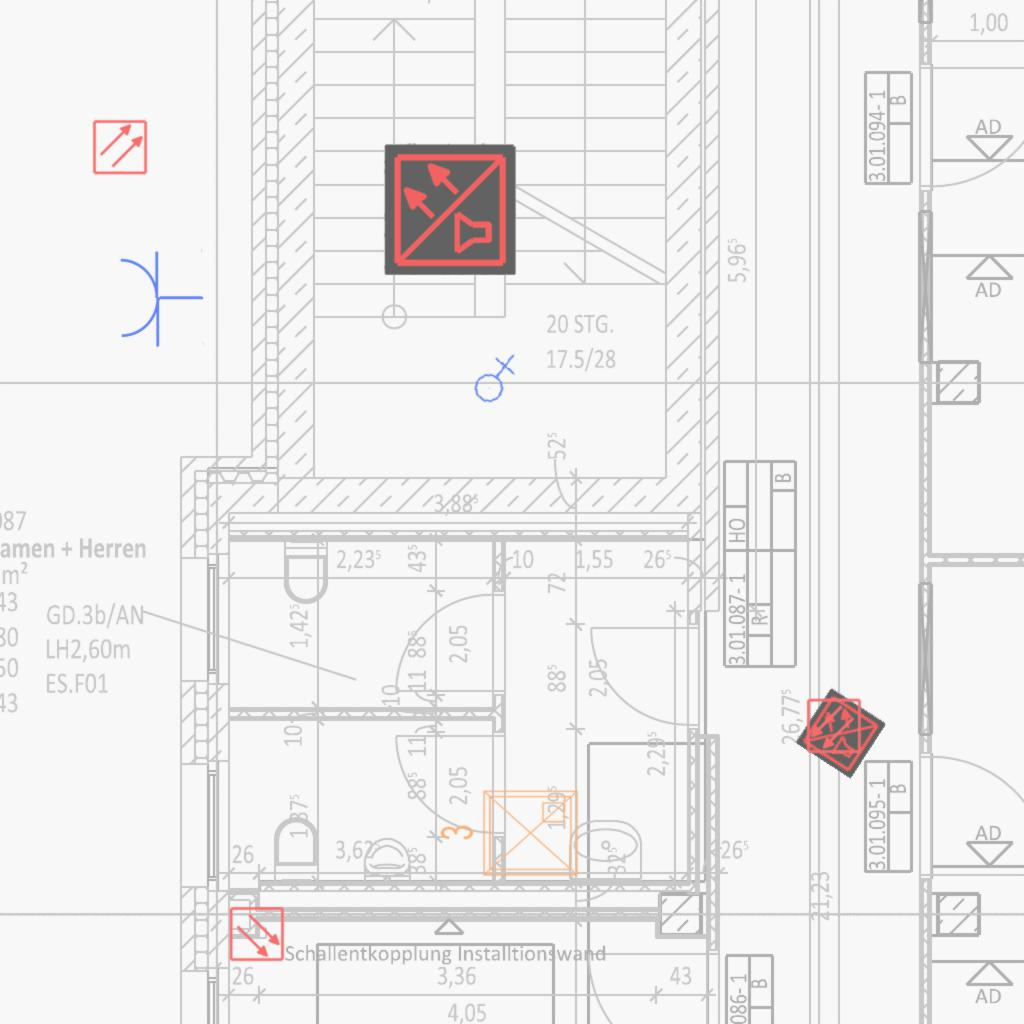Einbaudownlights_LED_Konferenzraeume: (435, 783, 585, 887)
Elektroanschluss_allgemein_230V_Geraeteanschlussdose_230V: (465, 351, 522, 406)
OKW_Multisensormelder_(Kombination_optischer_Rauch-Kahlenmonoxid_Waerme-Melder): (384, 143, 516, 275), (795, 687, 887, 779)
RMO_Rauchmelder_optischer: (92, 119, 148, 175), (229, 906, 285, 962), (806, 698, 862, 754)
Schukosteckdose_einfach: (115, 246, 205, 349)
